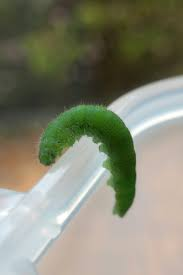Caterpillar: (38, 103, 137, 221)
